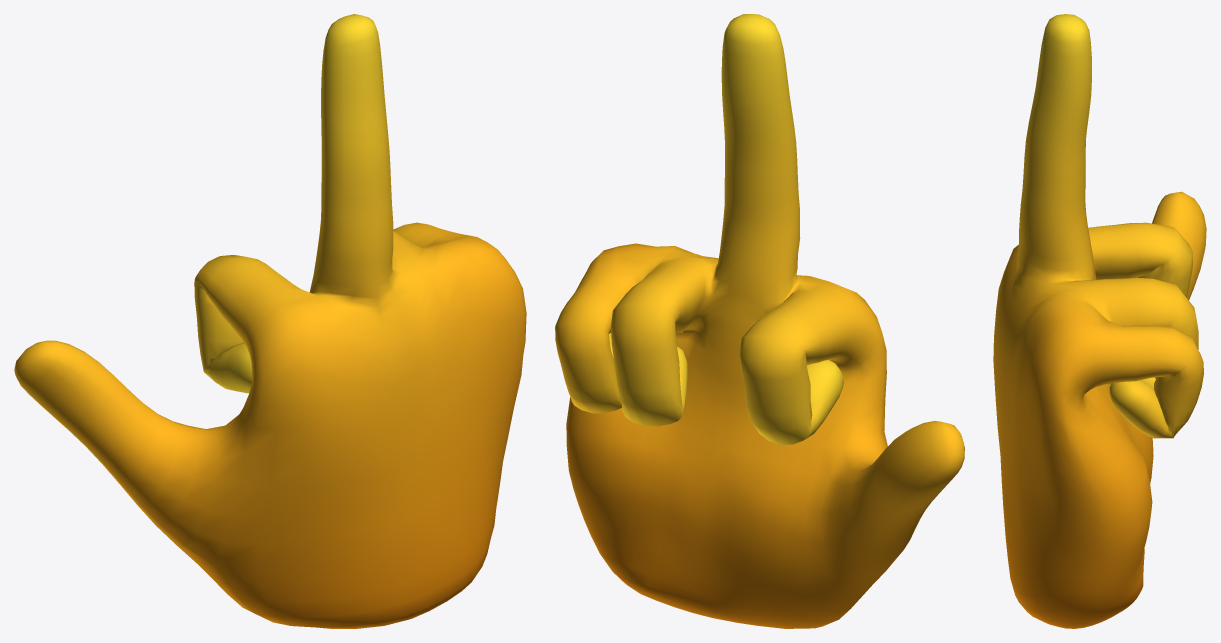
File: middle_finger.gltf
3 renders of one model, left to right at view 1: azimuth 30°, elevation 25°; view 2: azimuth 150°, elevation 25°; view 3: azimuth 270°, elevation 25°, orthographic. The views are drawn at different scales.
Visible parts, largest first — view 1: hand.023; view 2: hand.023; view 3: hand.023.
Part boxes in pixels (<box>): hand.023: <box>14,14,526,628</box>; hand.023: <box>555,14,964,628</box>; hand.023: <box>993,14,1206,628</box>.
Size of the model in its own units: 1.51 by 1.95 by 0.6552.
Materials: 1 (1 with a texture image).
